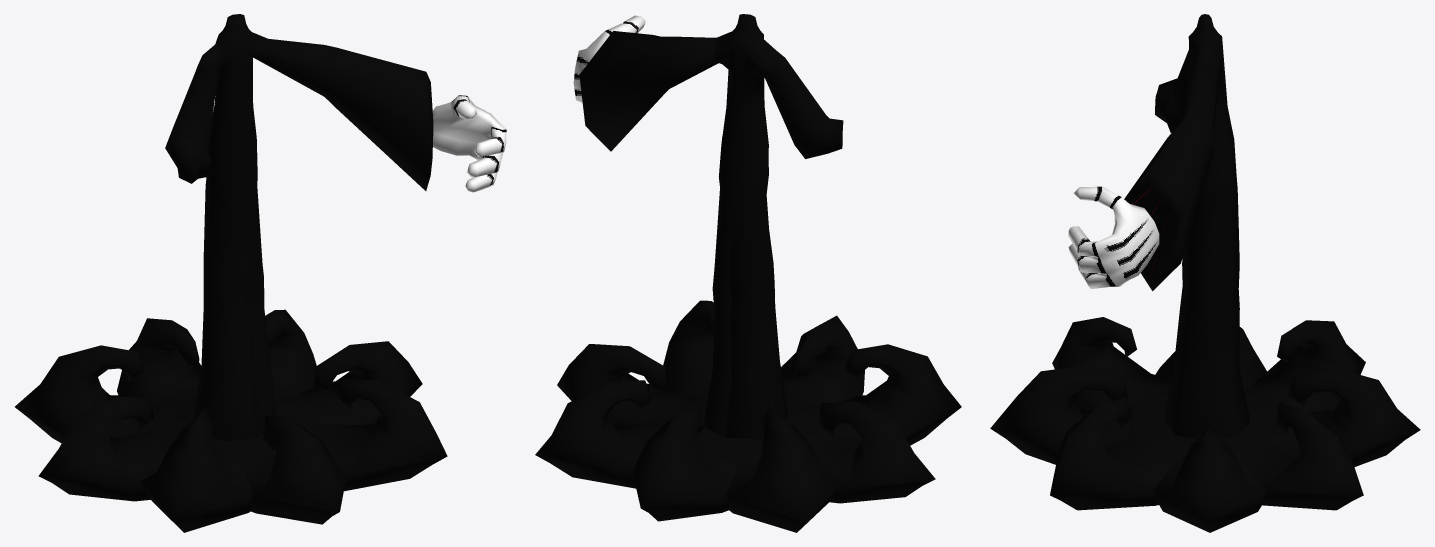
File: grim_cuerpo.obj
The picture shows the model from 3 angles, left to right: view 1: azimuth 30°, elevation 25°; view 2: azimuth 150°, elevation 25°; view 3: azimuth 270°, elevation 25°; orthographic projection.
Parts seen in each view (by area): view 1: cuerpo; view 2: cuerpo; view 3: cuerpo.
Boxes of the visible parts, bbox=[...] form: cuerpo: bbox=[15, 14, 506, 532]; cuerpo: bbox=[535, 14, 961, 532]; cuerpo: bbox=[990, 14, 1420, 532].
Bounding box in the file's own units: 0.4794 × 0.493 × 0.4368.
3 materials, 3 textured.
